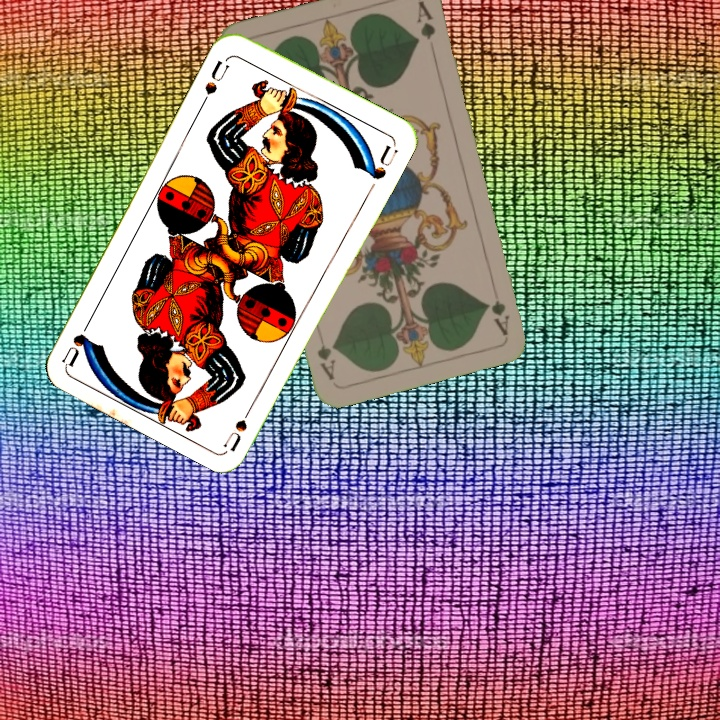GA: (487, 296, 512, 337)
SU: (220, 396, 258, 452), (197, 56, 232, 108)
